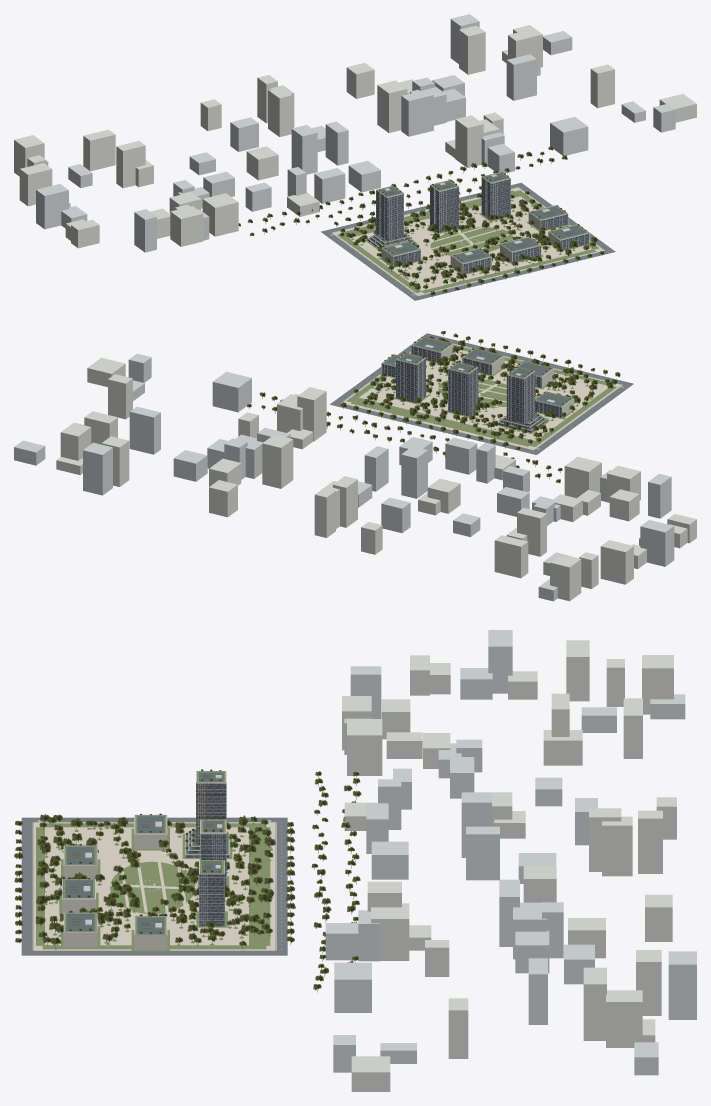
Rendered from campus.glb.
3 renders of one model, top to bottom at view 1: azimuth 30°, elevation 25°; view 2: azimuth 150°, elevation 25°; view 3: azimuth 270°, elevation 25°, orthographic. The views are drawn at different scales.
Parts seen in each view (by area): view 1: environment_cityLight, environment_city, environment_leavesCard, environment_path, environment_grass, environment_road, A1_glass, B1_glass, B2_glass, A1_frame, B1_frame, B2_frame; view 2: environment_cityLight, environment_city, environment_leavesCard, environment_path, environment_grass, environment_road, A1_glass, B1_glass, B2_glass, A1_frame, B1_frame, B2_frame (+1 smaller); view 3: environment_cityLight, environment_city, environment_leavesCard, environment_path, environment_grass, environment_road, A1_glass, B2_glass, environment_stone, B1_glass, environment_bark, B2_frame.
Boxes of the visible parts, left/top/right/bottom form: environment_cityLight: left=14, top=25, right=696, bottom=248; environment_city: left=36, top=14, right=675, bottom=252; environment_leavesCard: left=238, top=146, right=604, bottom=295; environment_path: left=333, top=187, right=603, bottom=295; environment_grass: left=337, top=190, right=599, bottom=293; environment_road: left=321, top=182, right=615, bottom=300; A1_glass: left=367, top=191, right=415, bottom=247; B1_glass: left=430, top=186, right=458, bottom=232; B2_glass: left=481, top=178, right=510, bottom=220; A1_frame: left=370, top=185, right=415, bottom=247; B1_frame: left=430, top=180, right=459, bottom=231; B2_frame: left=481, top=171, right=510, bottom=220; environment_cityLight: left=56, top=357, right=696, bottom=601; environment_city: left=14, top=353, right=674, bottom=601; environment_leavesCard: left=247, top=331, right=620, bottom=482; environment_path: left=342, top=344, right=621, bottom=449; environment_grass: left=347, top=345, right=616, bottom=446; environment_road: left=330, top=333, right=633, bottom=454; A1_glass: left=498, top=372, right=547, bottom=432; B1_glass: left=448, top=368, right=478, bottom=416; B2_glass: left=396, top=359, right=425, bottom=402; A1_frame: left=498, top=366, right=546, bottom=432; B1_frame: left=448, top=362, right=477, bottom=415; B2_frame: left=396, top=352, right=425, bottom=402; environment_cityLight: left=342, top=640, right=676, bottom=1091; environment_city: left=325, top=630, right=696, bottom=1075; environment_leavesCard: left=14, top=771, right=361, bottom=990; environment_path: left=33, top=822, right=275, bottom=950; environment_grass: left=36, top=823, right=273, bottom=951; environment_road: left=21, top=817, right=287, bottom=955; A1_glass: left=185, top=783, right=229, bottom=857; B2_glass: left=199, top=874, right=224, bottom=926; environment_stone: left=32, top=822, right=276, bottom=950; B1_glass: left=200, top=834, right=226, bottom=886; environment_bark: left=39, top=775, right=356, bottom=992; B2_frame: left=199, top=860, right=224, bottom=925.
Size of what is drawn, in the model's own units: 1299 by 107 by 904.
Materials: 18 (2 with a texture image).
